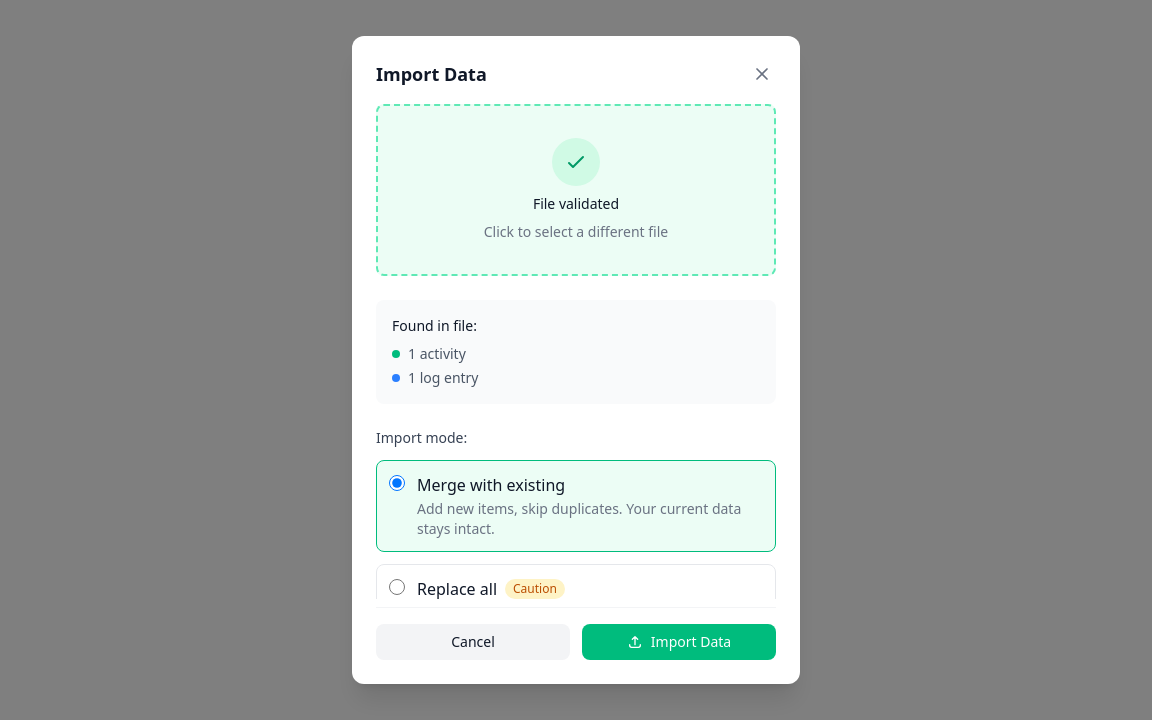
it: the counts it speaks of › says one of each, on both sides, when asking to replace
This screenshot has width=1152, height=720.
Earlier steps of the test are not shown.
Expected: the button "Import Data" is enabled, [582, 624, 776, 660]
Click the radio button labelled "Replace all Caution Clear all current data and import fresh.": (397, 587) [389, 579, 405, 595]
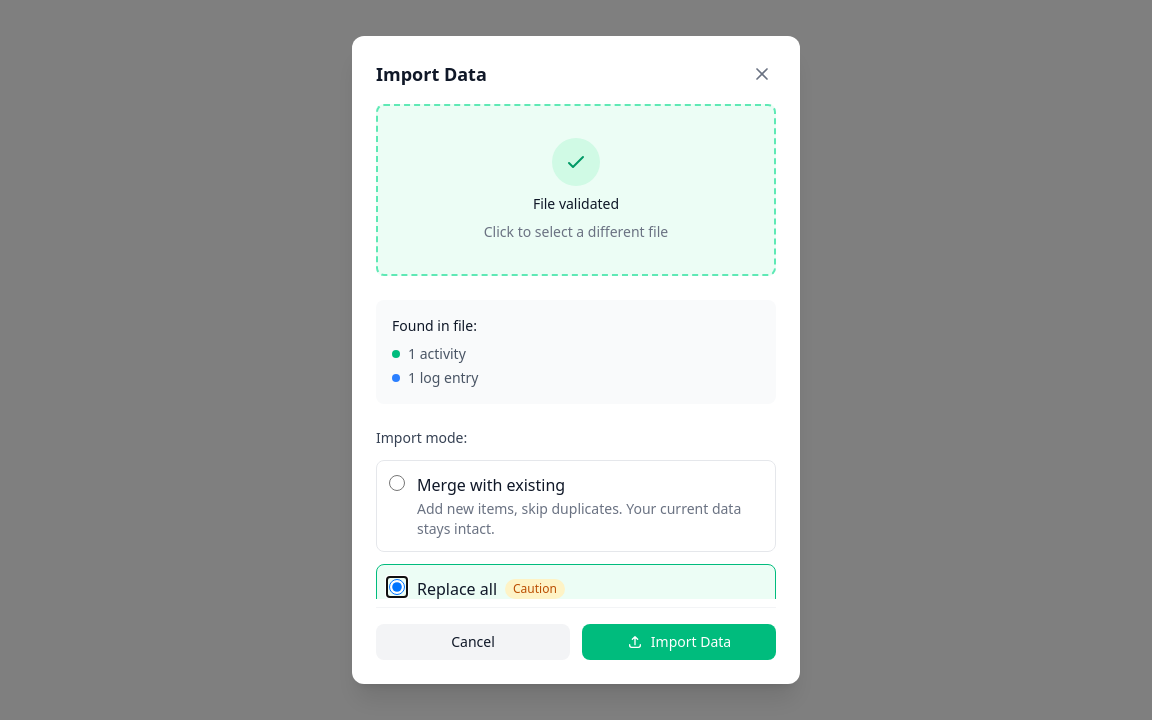
Click the button "Import Data": (679, 642) [582, 624, 776, 660]
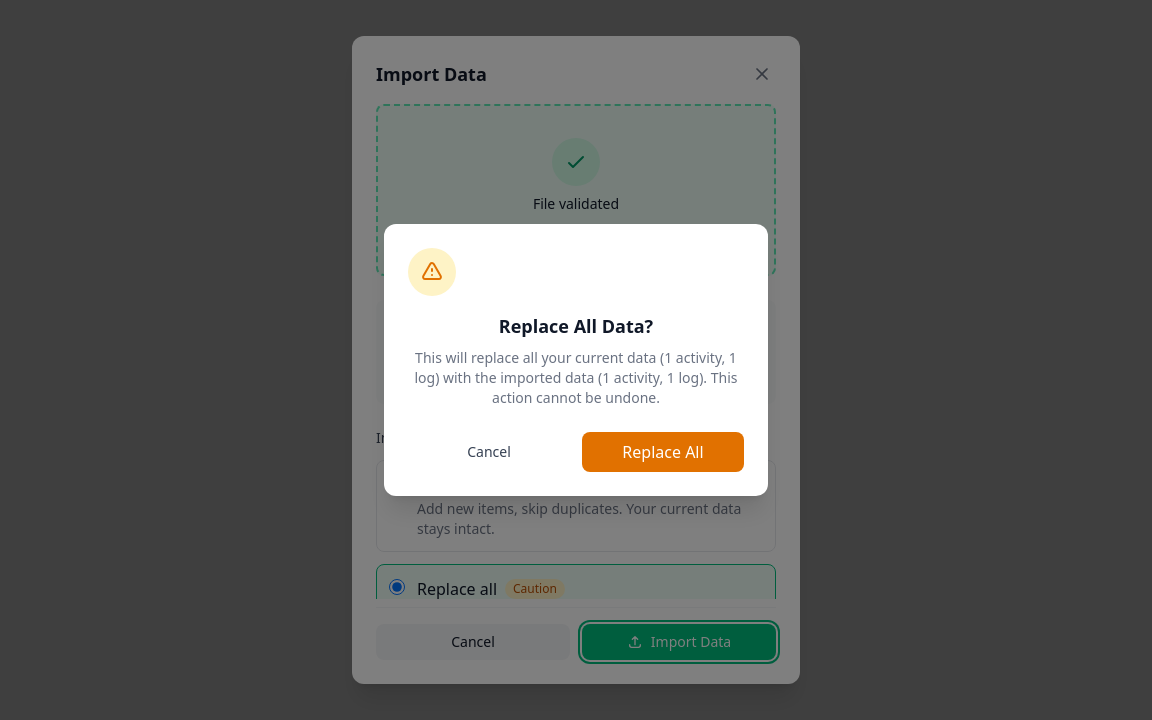
Expected: the text "This will replace all your current data (1 activity, 1 log) with the imported data (1 activity, 1 log). This action cann" is shown, [414, 348, 738, 407]
